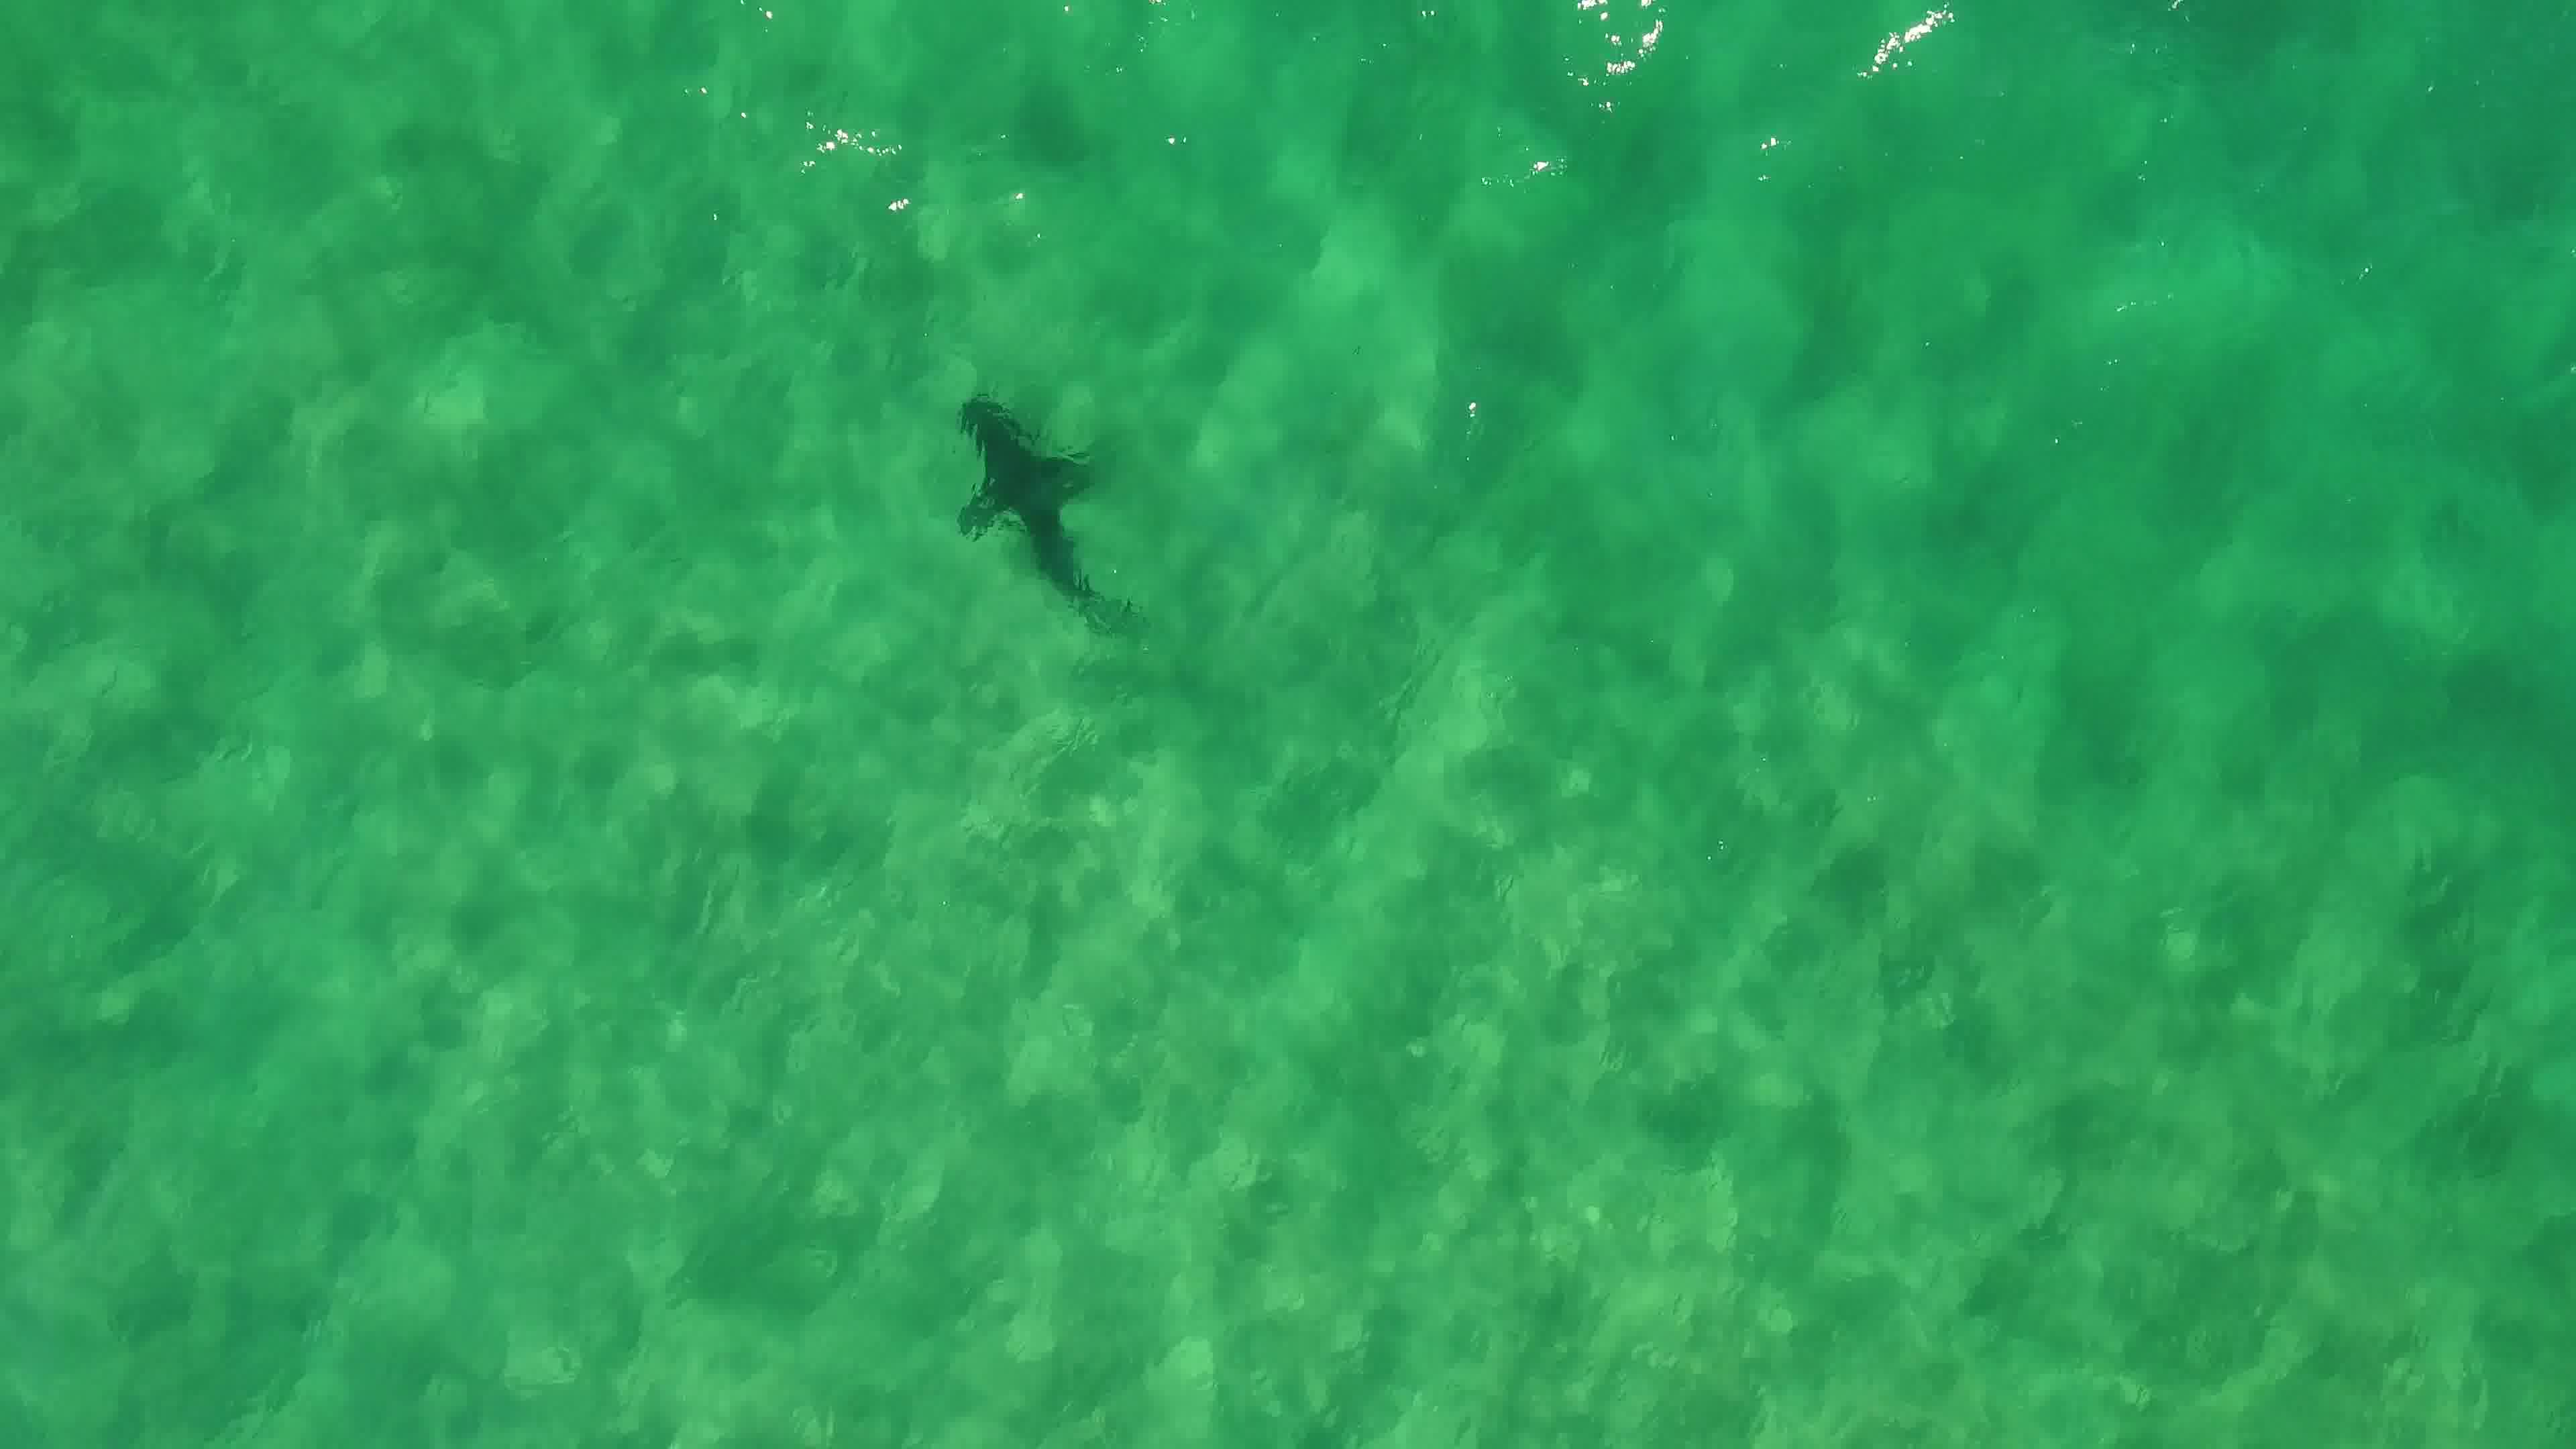shark: (948, 391, 1118, 632)
